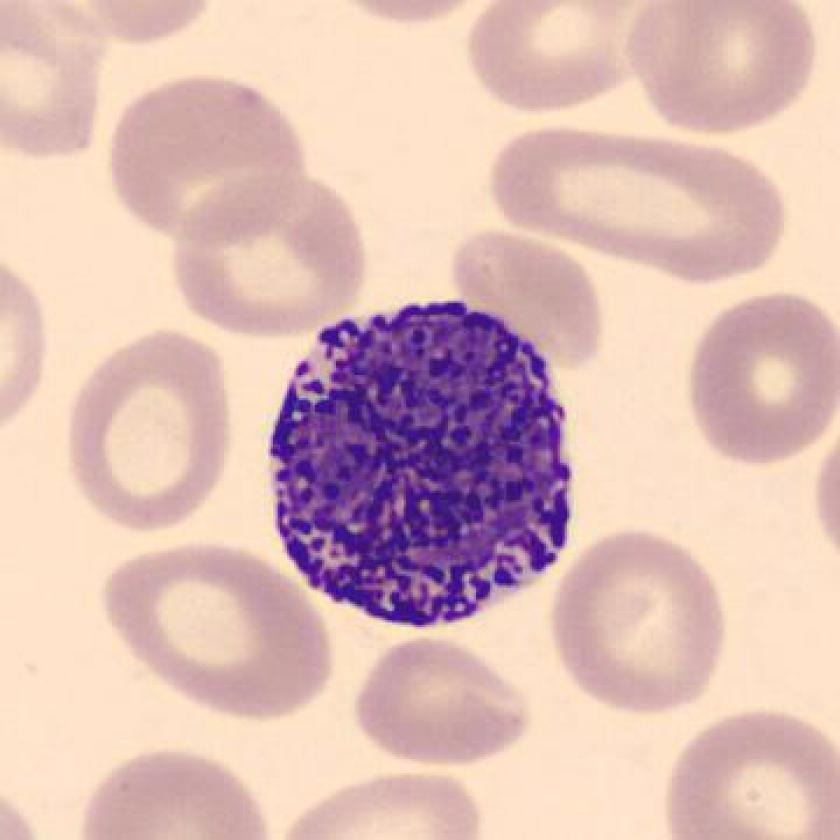basophil: (253, 286, 596, 644)
